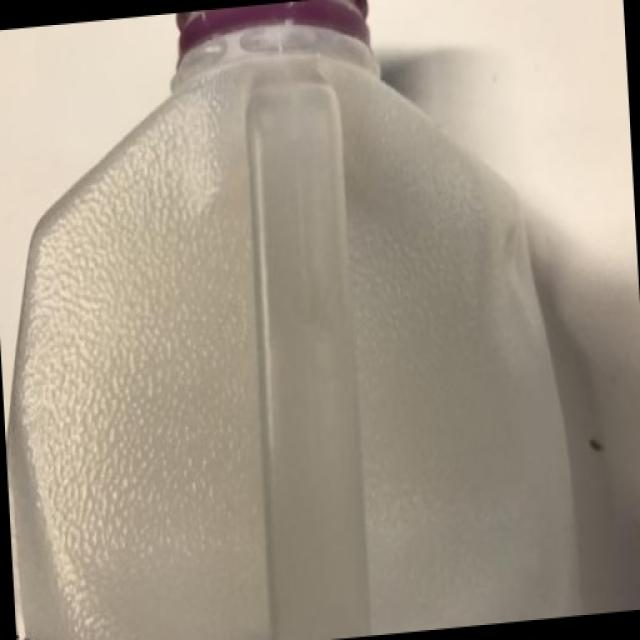plastico: (10, 1, 618, 632)
